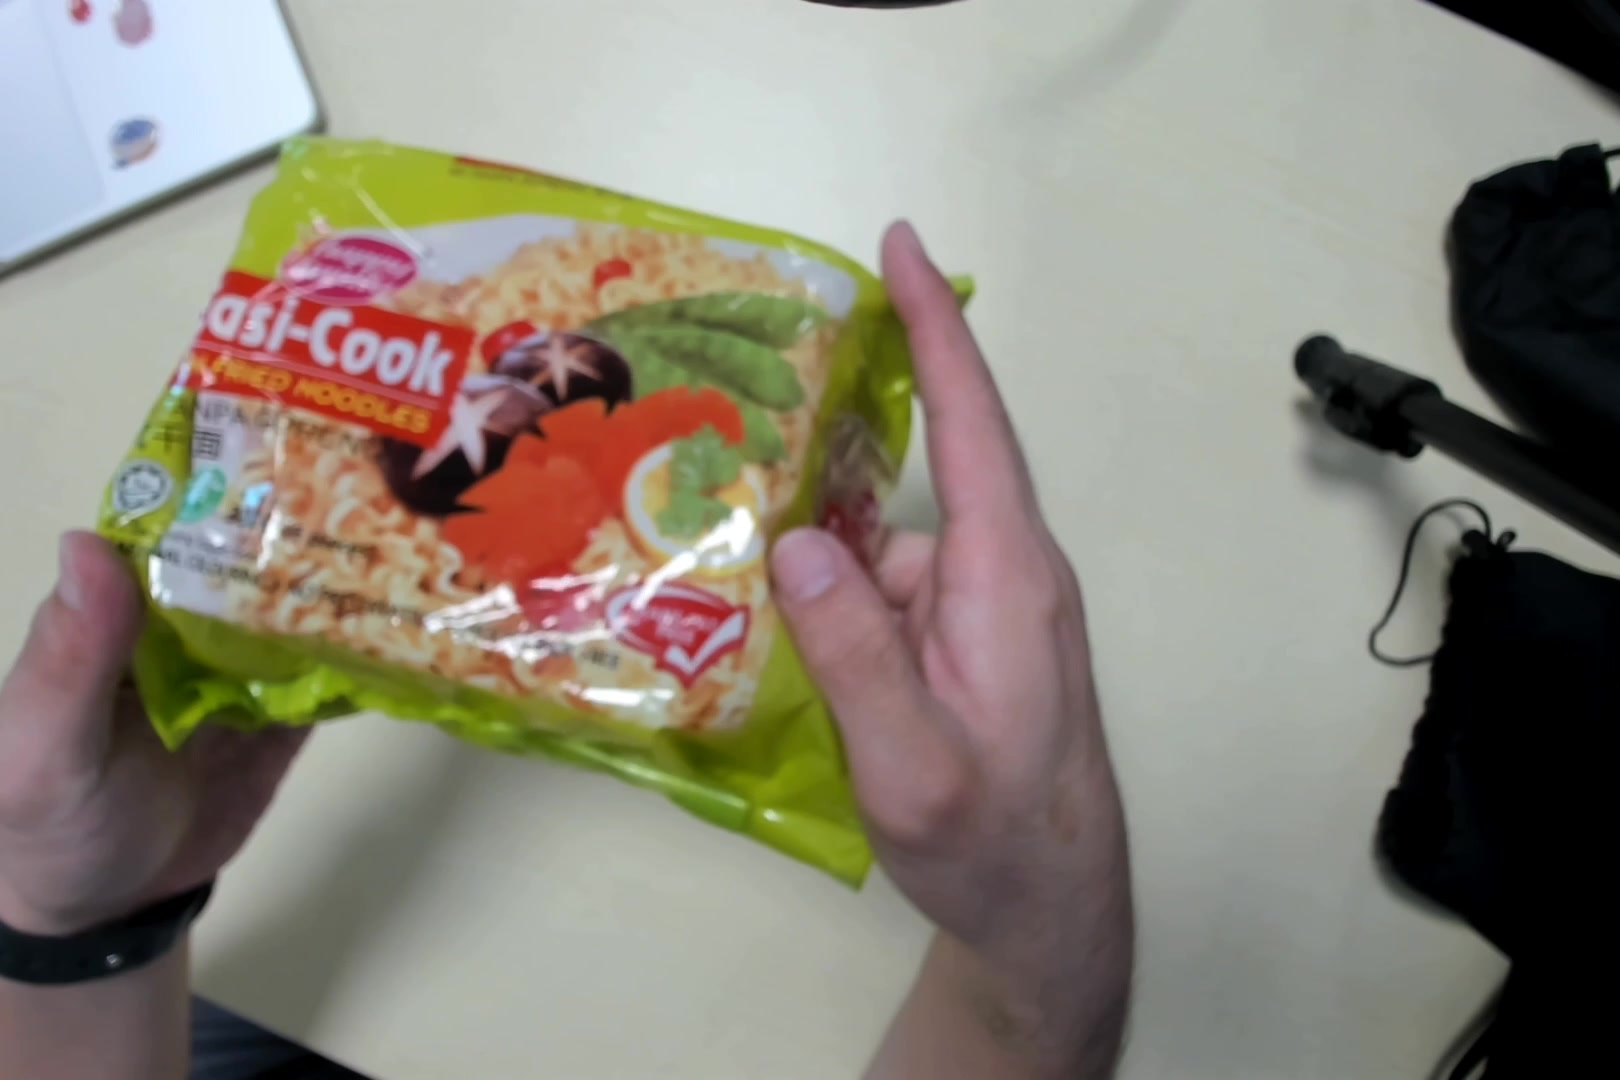OtherNoodles_300-399g_Halal_NonHealthy: (104, 141, 939, 871)
